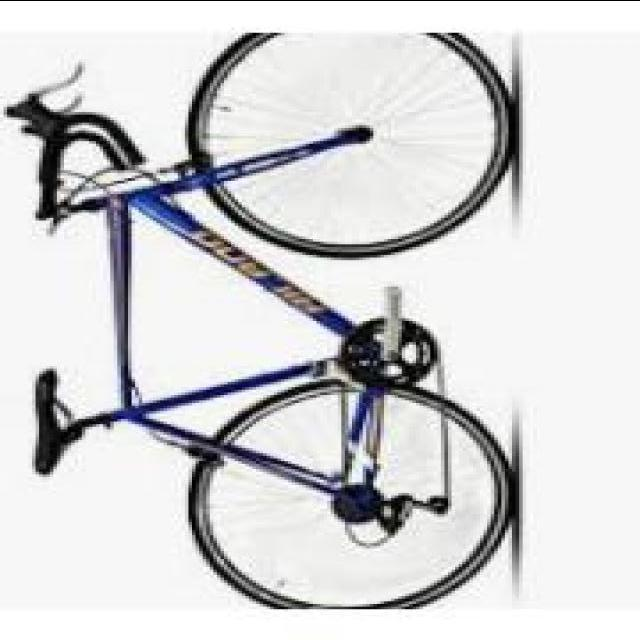bicycle: (16, 48, 535, 604)
